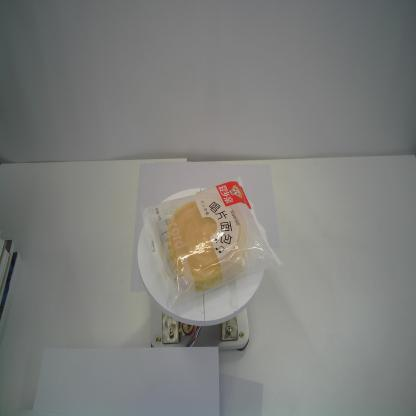Dessert: (141, 176, 283, 314)
